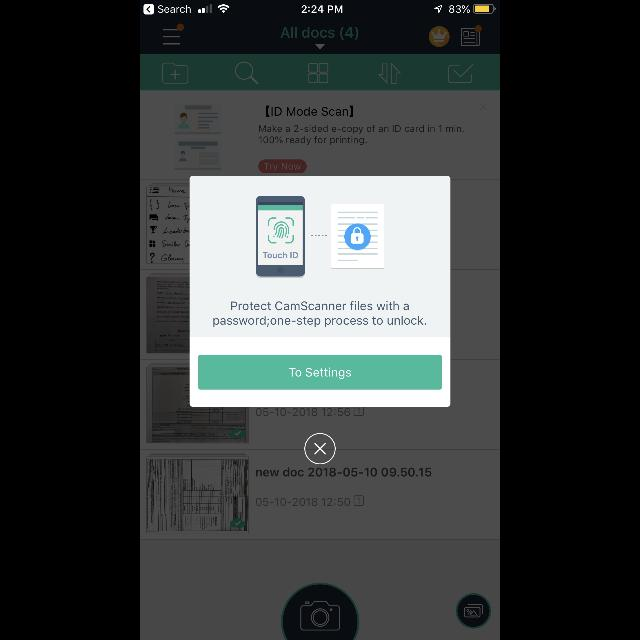icon: (304, 433, 336, 465)
image: (256, 195, 384, 278)
panel: (190, 176, 450, 407)
text: (214, 301, 426, 327)
textbutton: (198, 354, 442, 390)
uppertaskbar: (140, 0, 500, 14)
